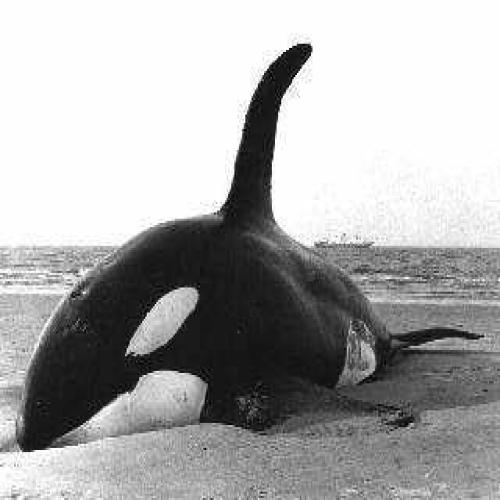killer_whale-endangered: (8, 36, 452, 457)
